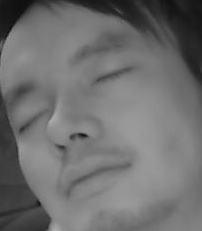blink: (18, 105, 54, 132), (92, 65, 128, 89)
mouth: (59, 155, 126, 199)
